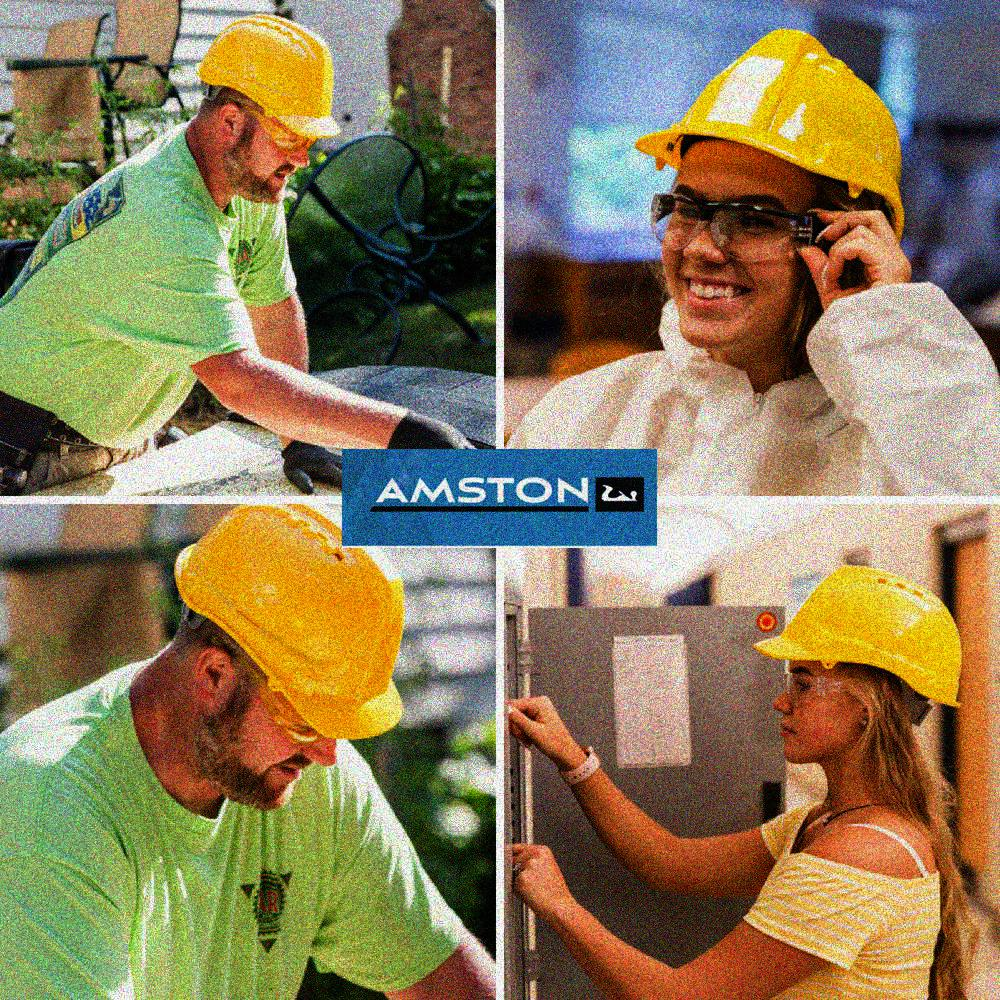helmet: (630, 27, 914, 368), (163, 506, 413, 813), (752, 556, 970, 767), (193, 13, 346, 212)
